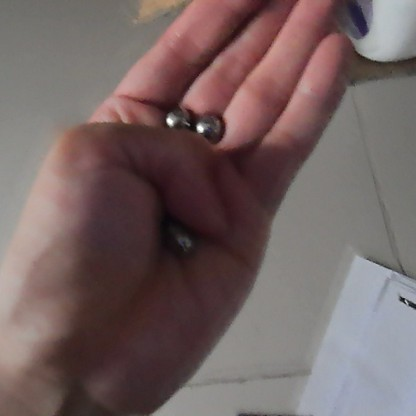ironball: (162, 219, 201, 255), (194, 110, 227, 145), (163, 103, 189, 130)
